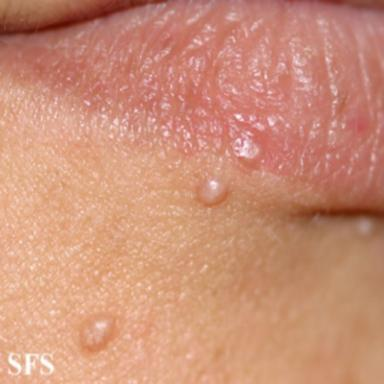Molluscum-Contagiosum: (80, 314, 115, 350), (197, 180, 227, 205), (233, 137, 260, 160)
